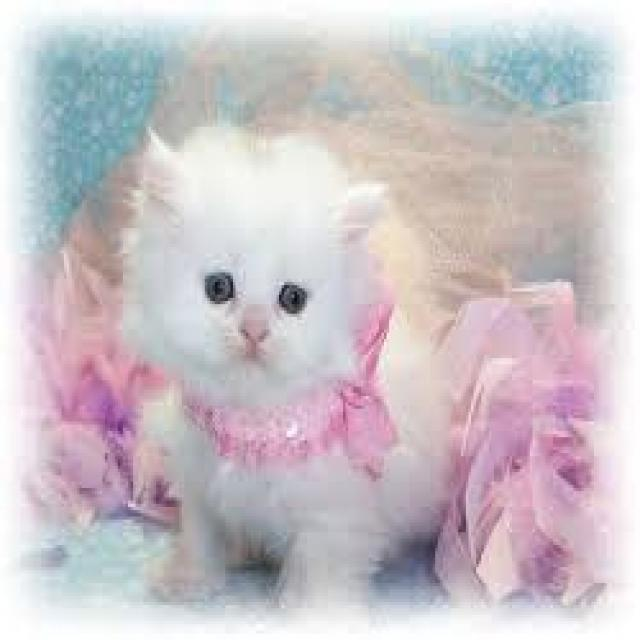Cat: (116, 115, 448, 606)
